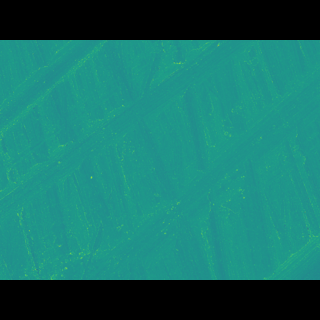Loch: (93, 84, 319, 249), (0, 69, 256, 211), (0, 69, 110, 145)
